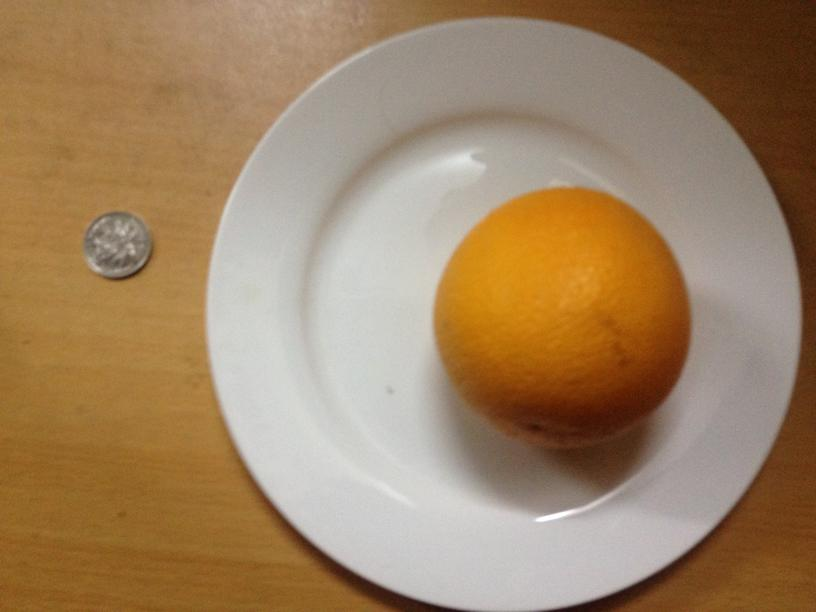coin: (81, 214, 153, 279)
orange: (431, 186, 690, 444)
